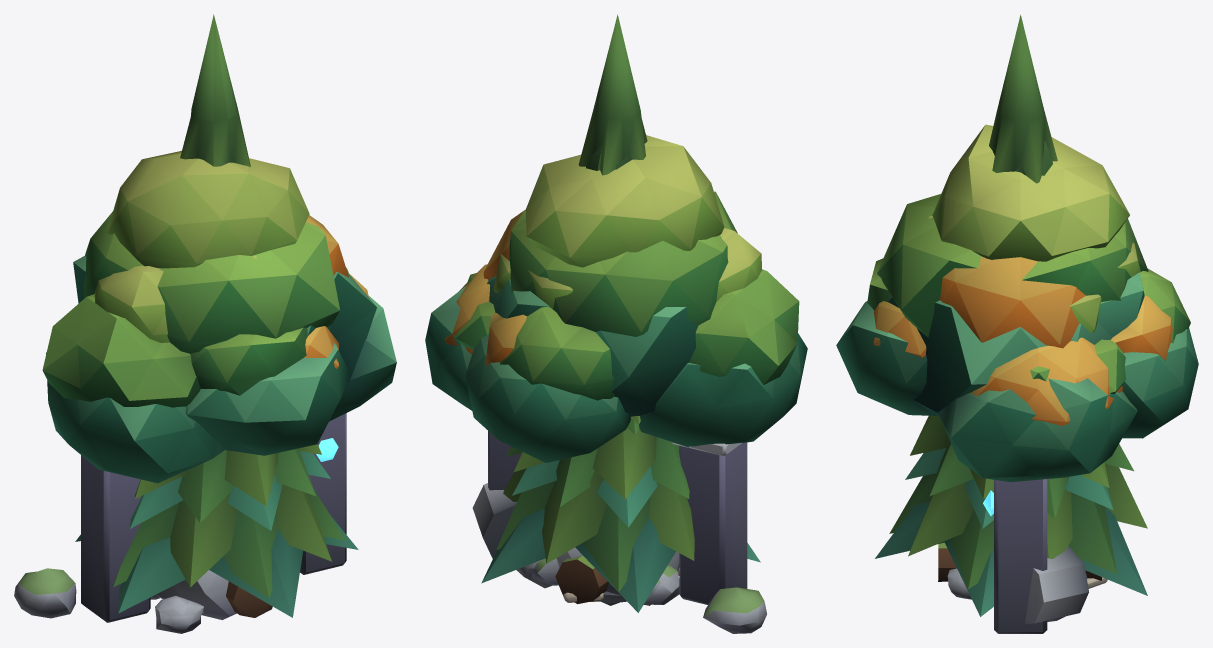
The model's file is env.glb.
3 views of the same model, side by side, from view 1: azimuth 30°, elevation 25°; view 2: azimuth 150°, elevation 25°; view 3: azimuth 270°, elevation 25° (orthographic). The views are drawn at different scales.
Visible parts, largest first — view 1: tree_round_a, tree_round_b, tree_birch, ruin_arch, tree_pine_c, tree_pine_a, tree_pine_b, rock_a, tree_round_gold, log; view 2: tree_round_b, tree_round_a, tree_birch, tree_pine_c, ruin_arch, tree_pine_b, tree_pine_a, tree_round_gold, ruin_pillar, log, rock_c, rock_a (+1 smaller); view 3: tree_round_b, tree_birch, tree_round_gold, tree_round_a, tree_pine_c, ruin_arch, tree_pine_a, tree_pine_b, ruin_pillar, log.
Part boxes in pixels (box(x1,y1,x2,y2)): tree_round_a: box(42, 211, 348, 407); tree_round_b: box(46, 256, 396, 483); tree_birch: box(94, 151, 309, 342); ruin_arch: box(14, 413, 346, 633); tree_pine_c: box(135, 14, 331, 587); tree_pine_a: box(113, 448, 345, 598); tree_pine_b: box(75, 451, 358, 617); rock_a: box(156, 570, 236, 619); tree_round_gold: box(304, 215, 368, 368); log: box(226, 581, 272, 617); tree_round_b: box(425, 276, 807, 462); tree_round_a: box(455, 191, 799, 400); tree_birch: box(493, 135, 761, 309); tree_pine_c: box(503, 14, 694, 563); ruin_arch: box(488, 431, 766, 633); tree_pine_b: box(481, 460, 760, 612); tree_pine_a: box(496, 418, 689, 592); tree_round_gold: box(444, 209, 526, 366); ruin_pillar: box(472, 483, 620, 595); log: box(555, 556, 608, 604); rock_c: box(643, 565, 679, 604); rock_a: box(556, 547, 679, 603); tree_round_b: box(836, 272, 1198, 482); tree_birch: box(929, 124, 1140, 333); tree_round_gold: box(873, 256, 1172, 425); tree_round_a: box(867, 194, 1190, 393); tree_pine_c: box(908, 14, 1147, 558); ruin_arch: box(983, 478, 1050, 633); tree_pine_a: box(889, 442, 1133, 589); tree_pine_b: box(875, 448, 1147, 616); ruin_pillar: box(1025, 546, 1088, 624); log: box(938, 542, 1101, 581).
Size of the model in its own units: 2.64 by 4.38 by 2.44.
